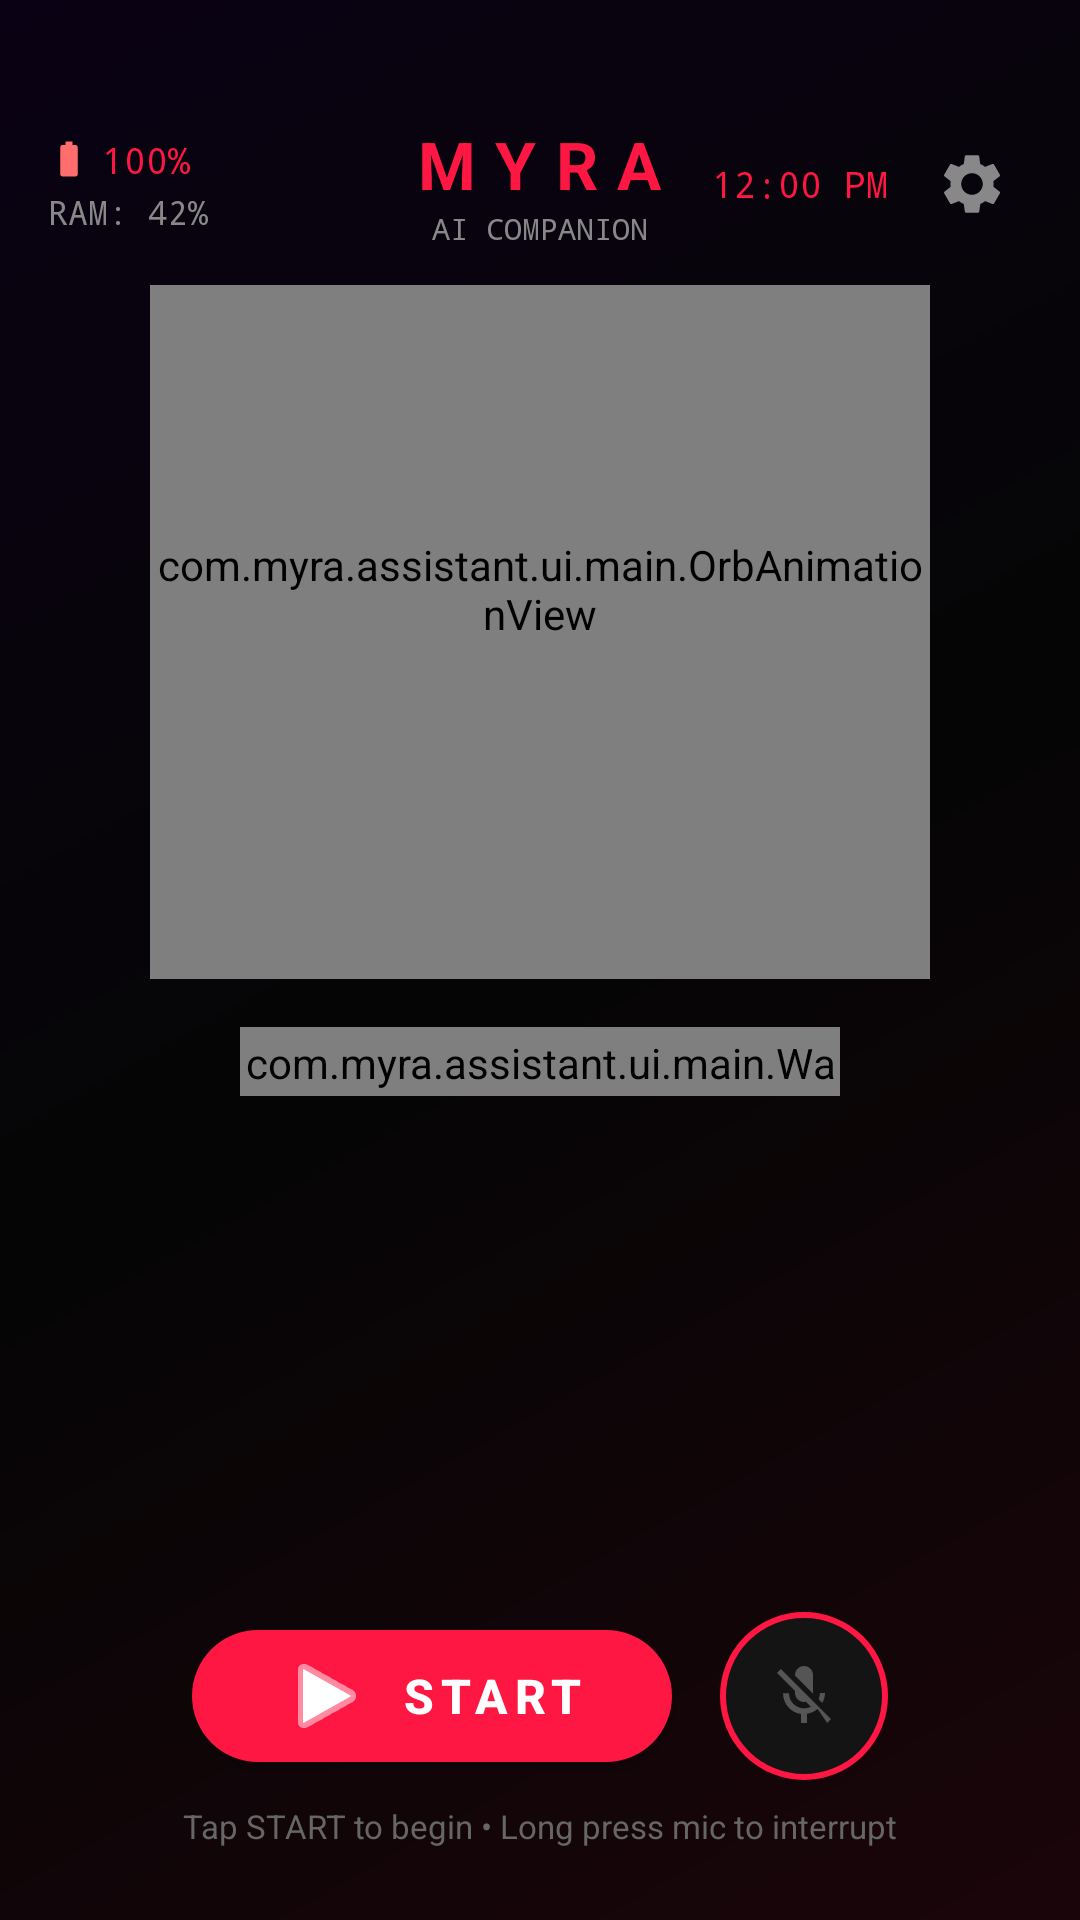

Point at icon controls on the screen. Image size 1080*1920, points as (x,y).
Battery: (69,159)
Settings: (972,184)
